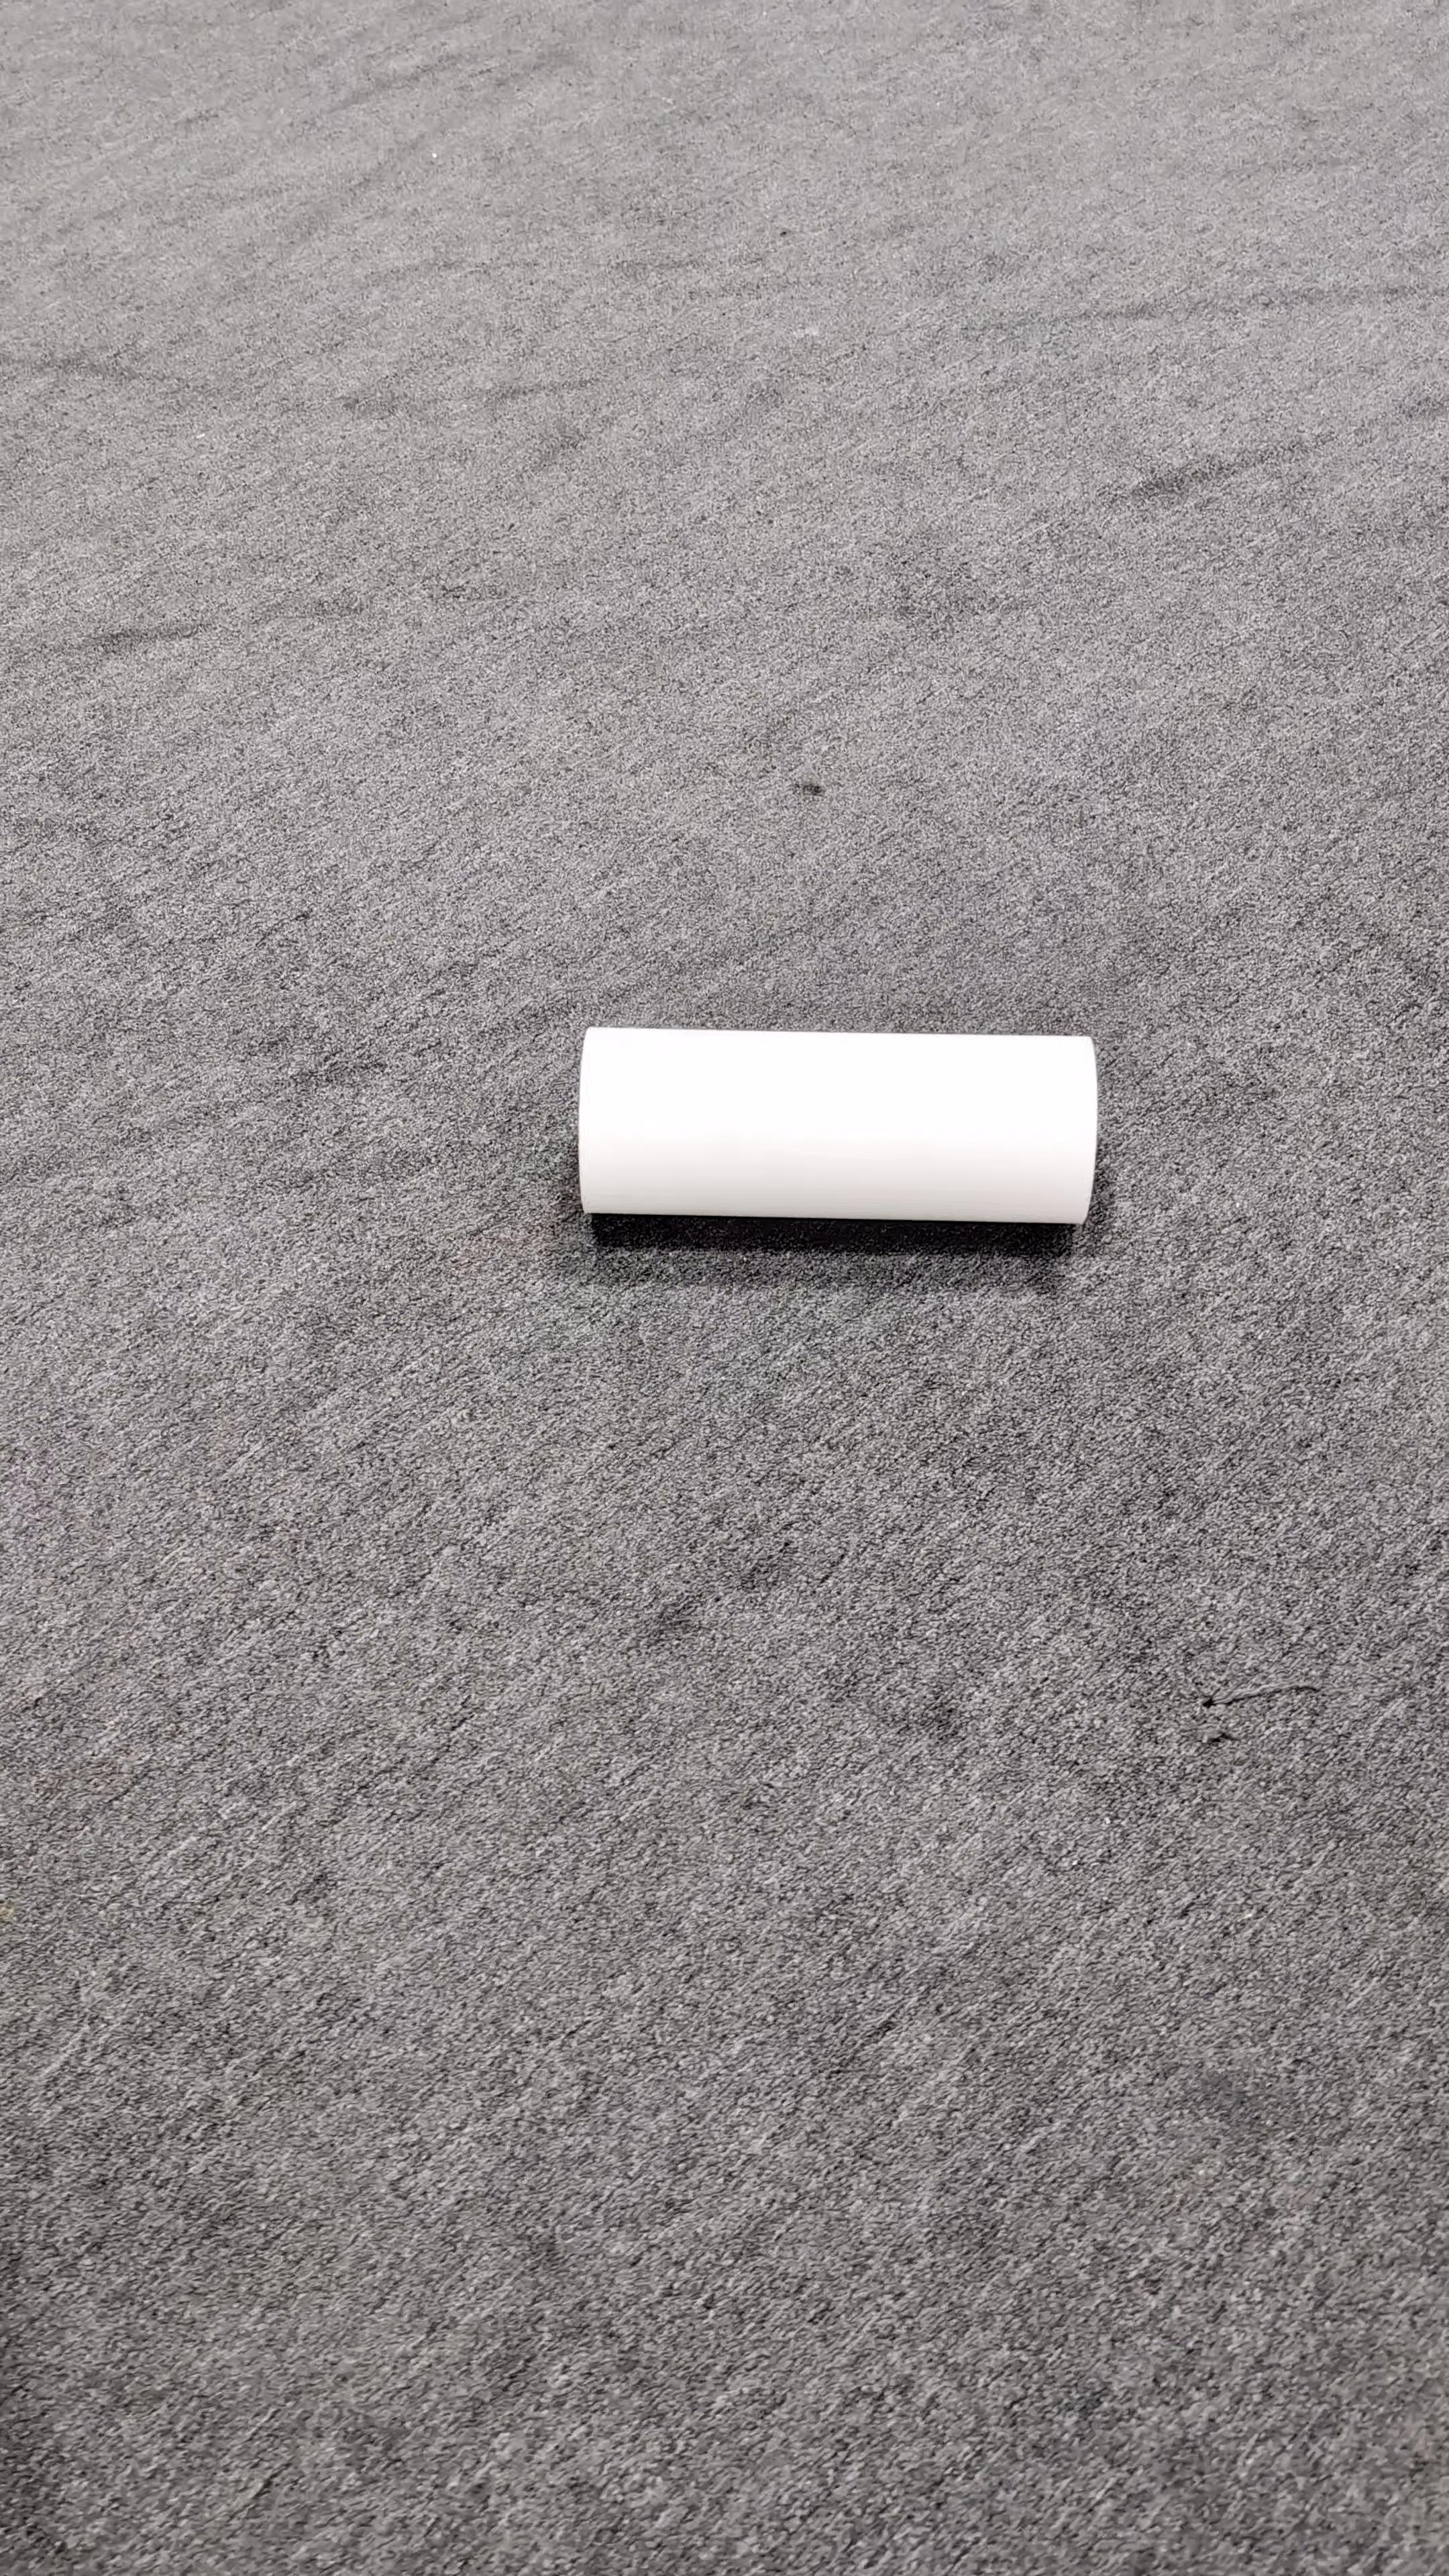coral: (573, 1021, 1100, 1226)
